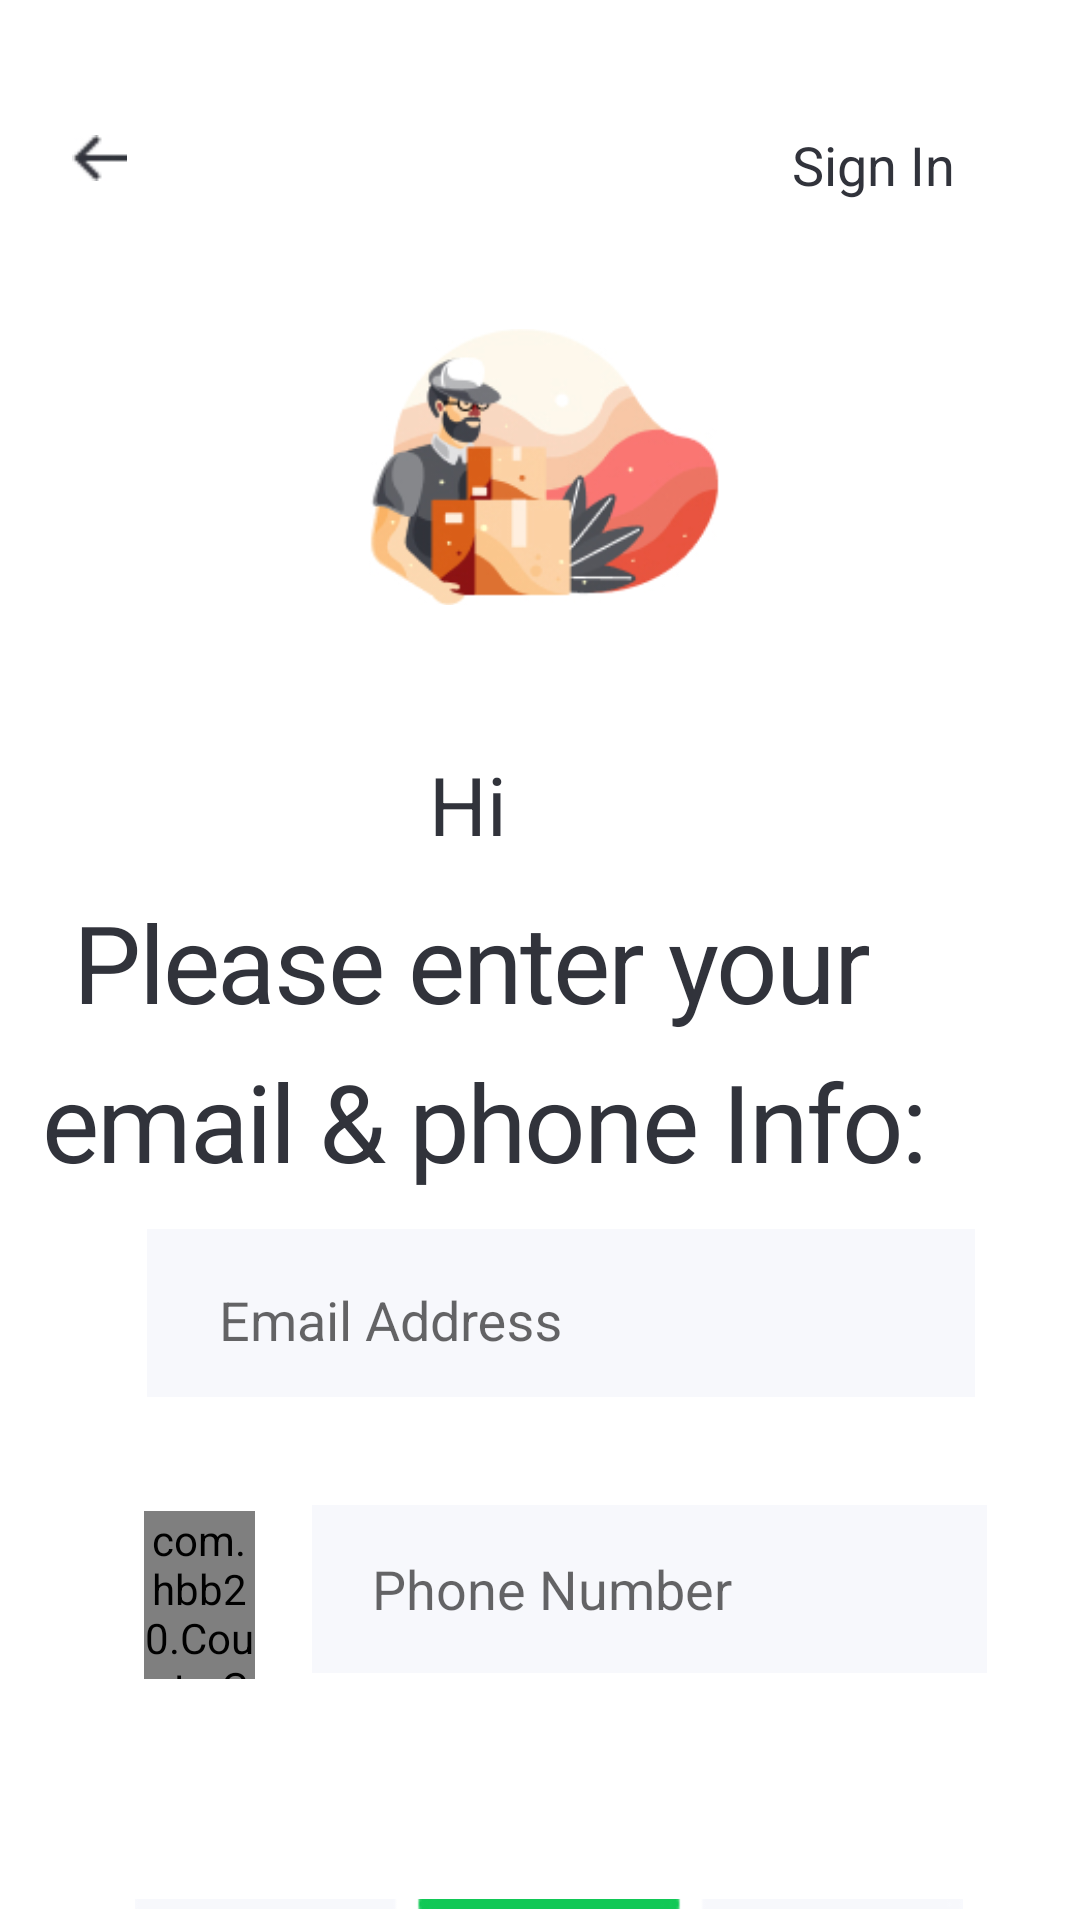

Where icons sit on this 1080px×1920px app screen, as [x1, y1, x2, y2]:
back: [72, 135, 127, 181]
